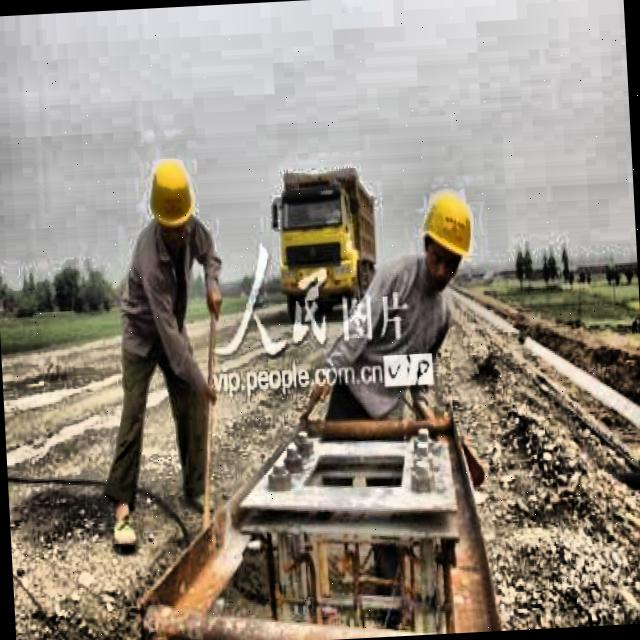helmet: (414, 178, 482, 298), (144, 148, 198, 255)
